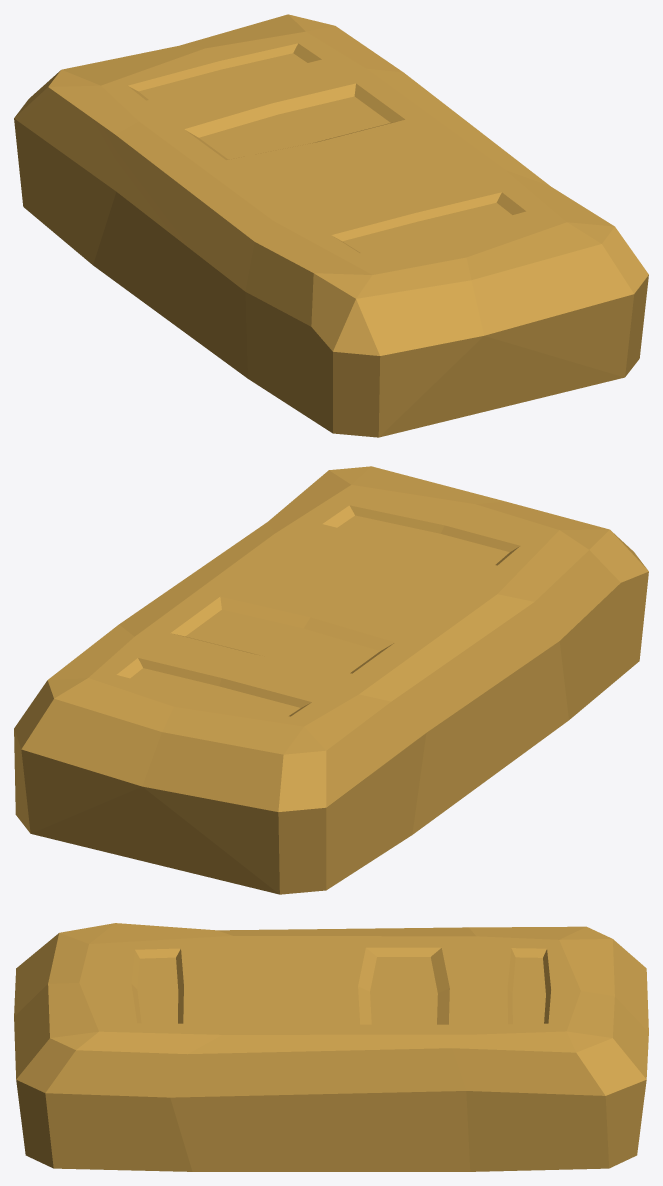
The model's file is SM_Prop_Gold_Ingot_01.glb.
3 views of the same model, one above another, from view 1: azimuth 30°, elevation 25°; view 2: azimuth 150°, elevation 25°; view 3: azimuth 270°, elevation 25° (orthographic). The views are drawn at different scales.
Parts seen in each view (by area): view 1: SM_Prop_Gold_Ingot_01; view 2: SM_Prop_Gold_Ingot_01; view 3: SM_Prop_Gold_Ingot_01.
Boxes of the visible parts, x1,y1,x2,y2 form: SM_Prop_Gold_Ingot_01: (14,14,648,437); SM_Prop_Gold_Ingot_01: (14,466,648,894); SM_Prop_Gold_Ingot_01: (14,923,648,1171).
Size of the model in its own units: 0.1262 by 0.0492 by 0.2402.
Materials: 1 (1 with a texture image).
